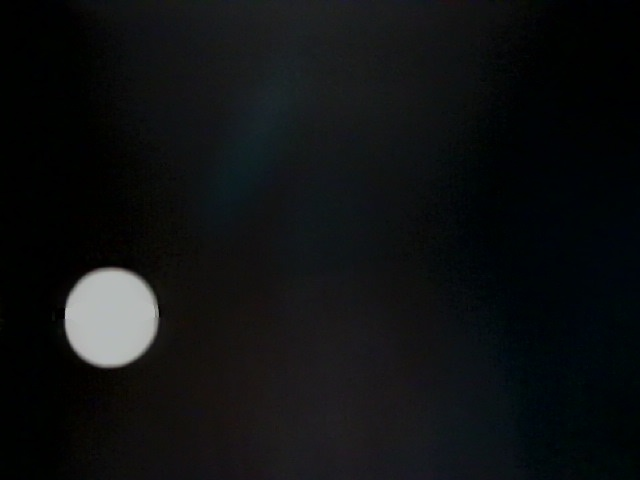KHSLJ: (2, 1, 409, 196)
